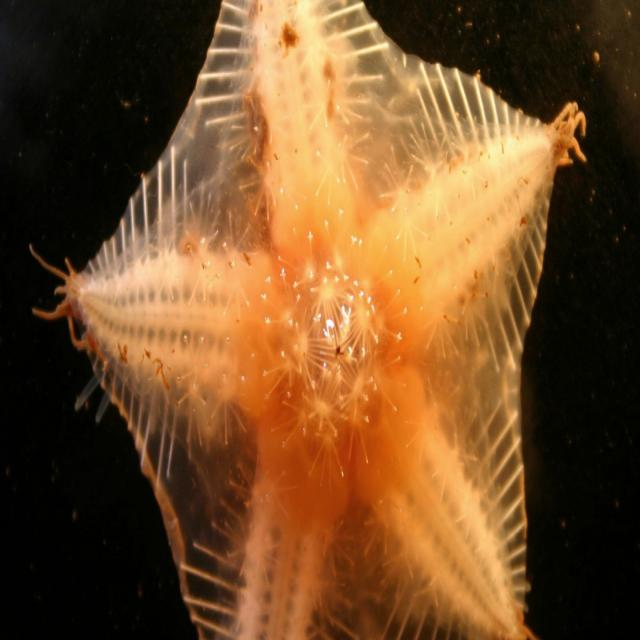starfish: (36, 0, 585, 639)
